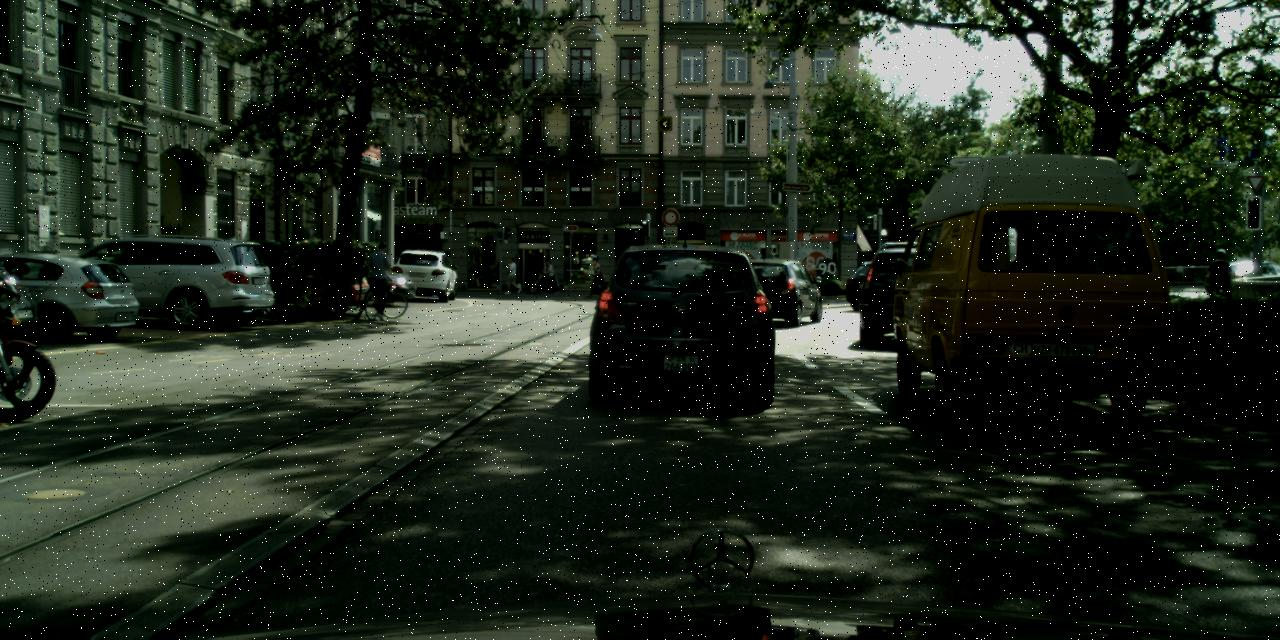ped: (1202, 248, 1238, 333), (361, 242, 391, 316), (588, 256, 604, 296), (505, 258, 519, 292), (543, 259, 556, 292)
